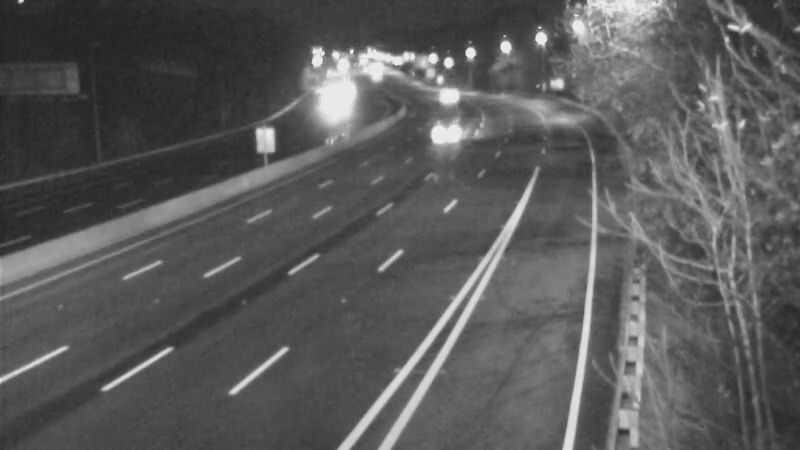vehicle: (417, 68, 467, 118), (418, 100, 468, 150)
